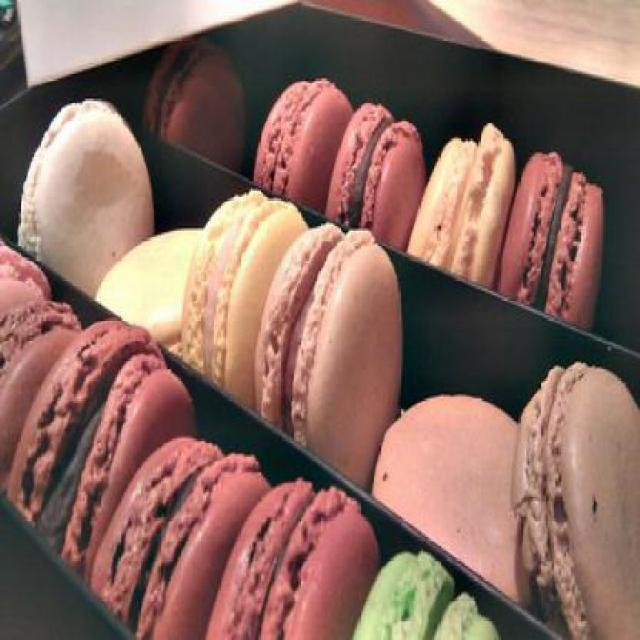Macaron: (2, 33, 640, 638)
